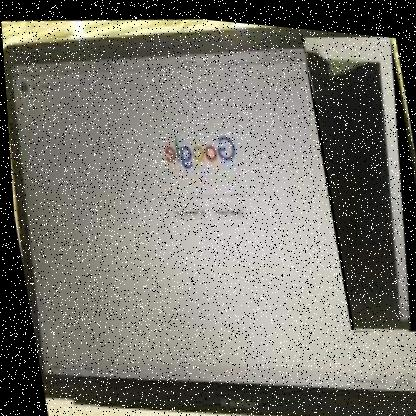crack: (299, 22, 415, 332)
spot: (302, 22, 415, 333)
